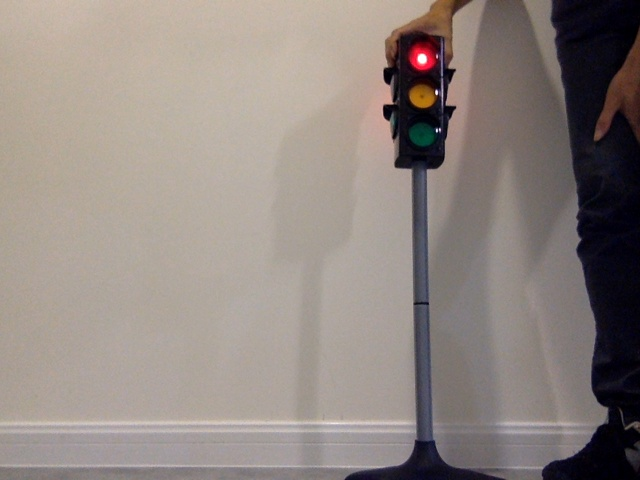red: (398, 41, 441, 153)
